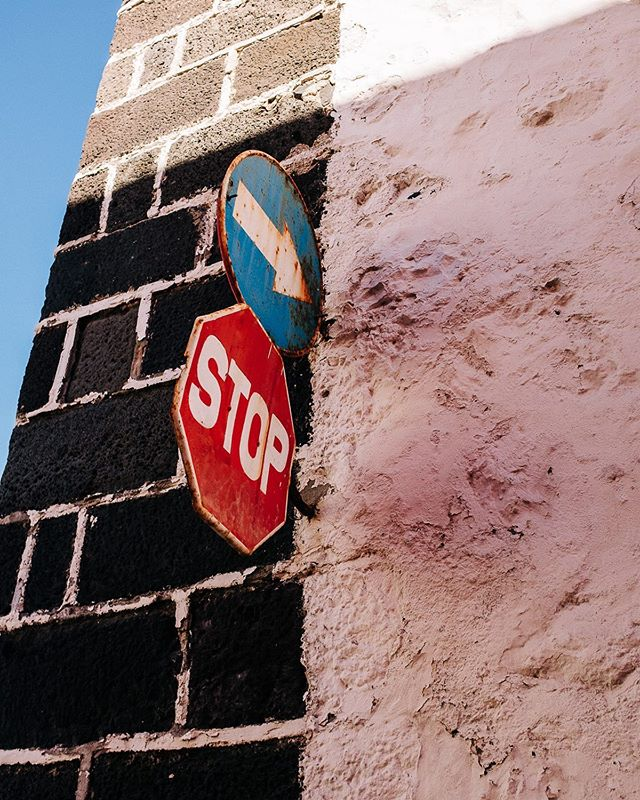sign: (171, 306, 315, 559), (200, 147, 349, 351)
